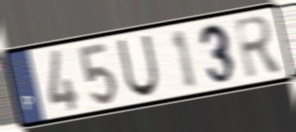1: (170, 27, 197, 92)
3: (198, 20, 242, 87)
4: (46, 46, 81, 115)
5: (76, 39, 121, 107)
R: (231, 13, 287, 82)
U: (115, 33, 161, 100)
